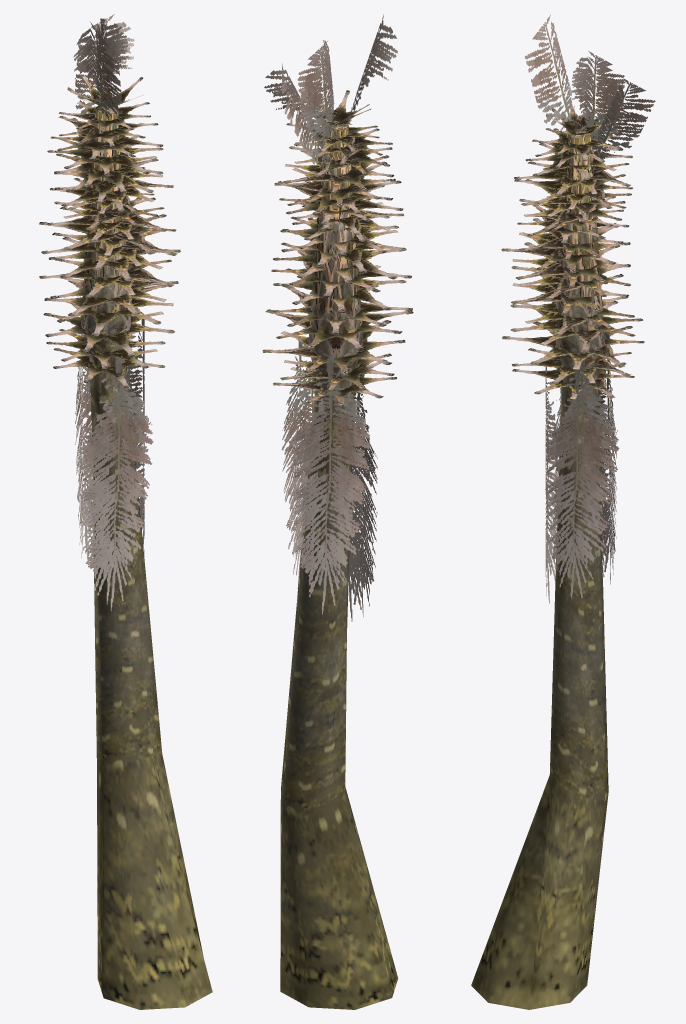
The model's file is flora_tree_date_palm_dead_v3.glb.
3 renders of one model, left to right at view 1: azimuth 30°, elevation 25°; view 2: azimuth 150°, elevation 25°; view 3: azimuth 270°, elevation 25°, orthographic. The views are drawn at different scales.
Visible parts, largest first — view 1: flora_tree_date_palm_dead_v3_part0; view 2: flora_tree_date_palm_dead_v3_part0; view 3: flora_tree_date_palm_dead_v3_part0.
Part boxes in pixels (<box>): flora_tree_date_palm_dead_v3_part0: <box>39,14,212,1009</box>; flora_tree_date_palm_dead_v3_part0: <box>262,14,413,1009</box>; flora_tree_date_palm_dead_v3_part0: <box>471,14,655,1009</box>.
Size of the model in its own units: 3.6 by 19.53 by 3.76.
Materials: 1 (1 with a texture image).
